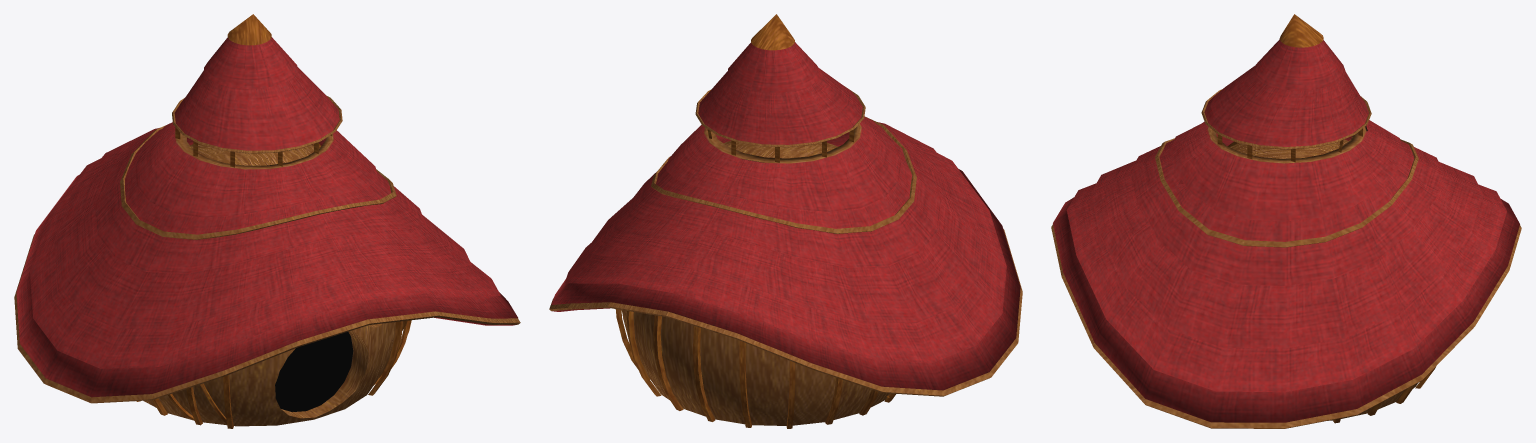
Rendered from Trogo_2.fbx.
The picture shows the model from 3 angles, left to right: view 1: azimuth 30°, elevation 25°; view 2: azimuth 150°, elevation 25°; view 3: azimuth 270°, elevation 25°; orthographic projection.
Parts seen in each view (by area): view 1: haut, bas; view 2: haut, bas; view 3: haut, bas.
Boxes of the visible parts, x1,y1,x2,y2 form: haut: [14, 14, 520, 403]; bas: [136, 143, 411, 428]; haut: [549, 14, 1022, 396]; bas: [615, 140, 895, 428]; haut: [1051, 14, 1521, 428]; bas: [1228, 139, 1435, 423].
Size of the model in its own units: 885 by 712 by 852.
